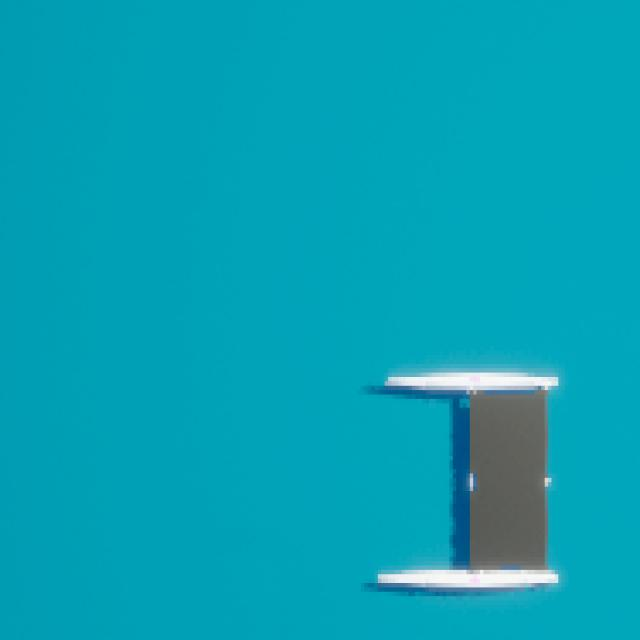boat: (374, 365, 570, 601)
drone: (472, 392, 546, 570)
